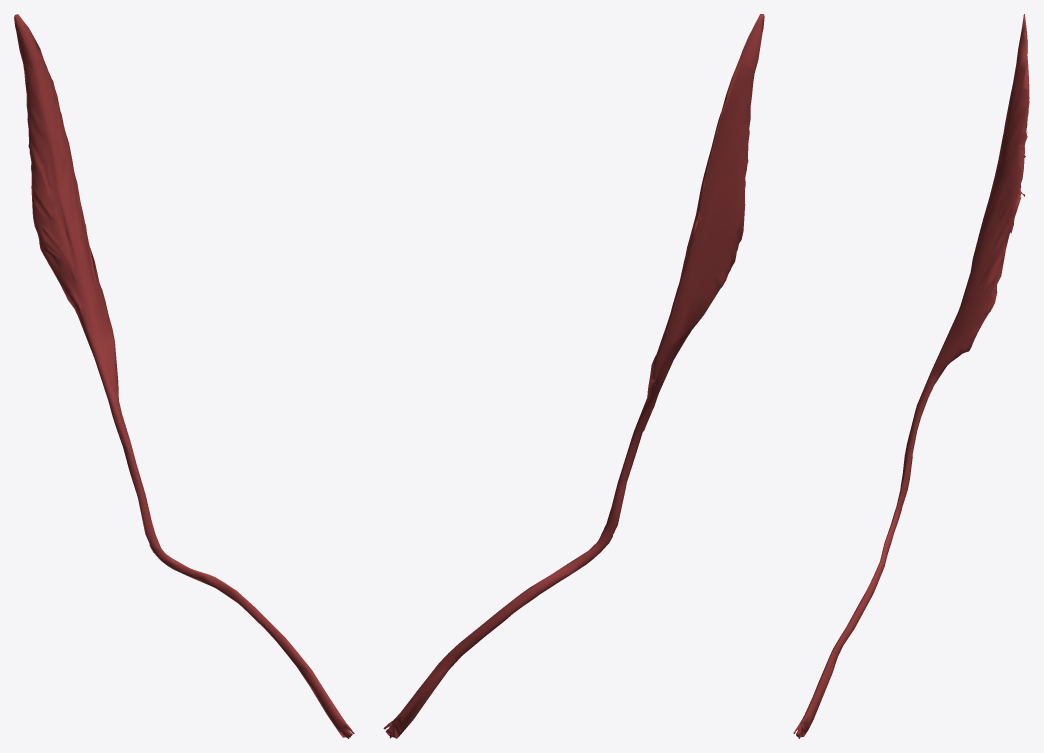
The model's file is flexor-pollicis-longus-l.glb.
3 views of the same model, side by side, from view 1: azimuth 30°, elevation 25°; view 2: azimuth 210°, elevation 25°; view 3: azimuth 270°, elevation 25° (orthographic). The views are drawn at different scales.
Parts seen in each view (by area): view 1: Flexor pollicis longus.l; view 2: Flexor pollicis longus.l; view 3: Flexor pollicis longus.l.
Boxes of the visible parts, bbox=[...] form: Flexor pollicis longus.l: bbox=[14, 14, 354, 738]; Flexor pollicis longus.l: bbox=[383, 14, 764, 738]; Flexor pollicis longus.l: bbox=[793, 14, 1029, 738].
Bounding box in the file's own units: 0.0781 × 0.2381 × 0.0808.
